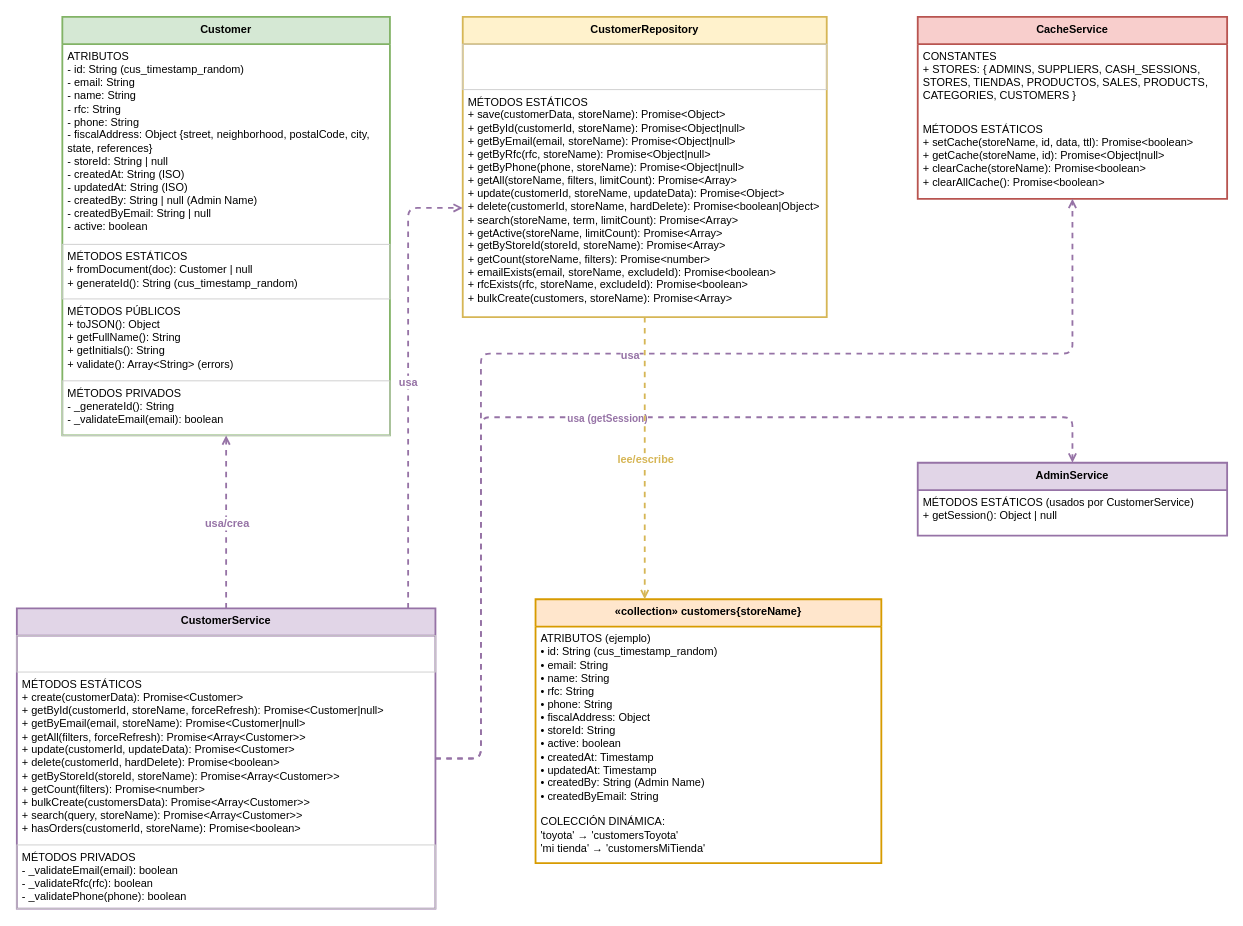
Image size: 1243x926. Some labels were removed from this diagram. Each missing label, with the centre of its shape:
"CONSTANTES PRIVADAS - CACHE_STORE: String ('customers')" belongs at pixel 225 653.
"FUNCIONES PRIVADAS - getCustomersCollectionName(storeName): String" belongs at pixel 644 66.
